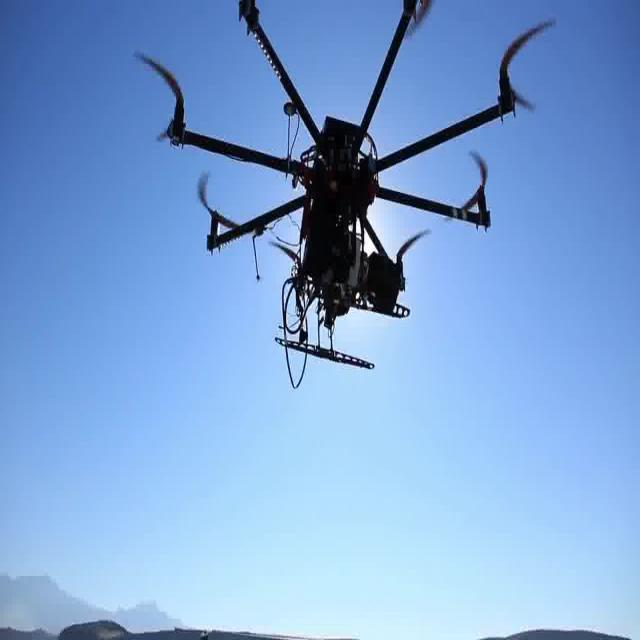drones: (127, 2, 565, 395)
